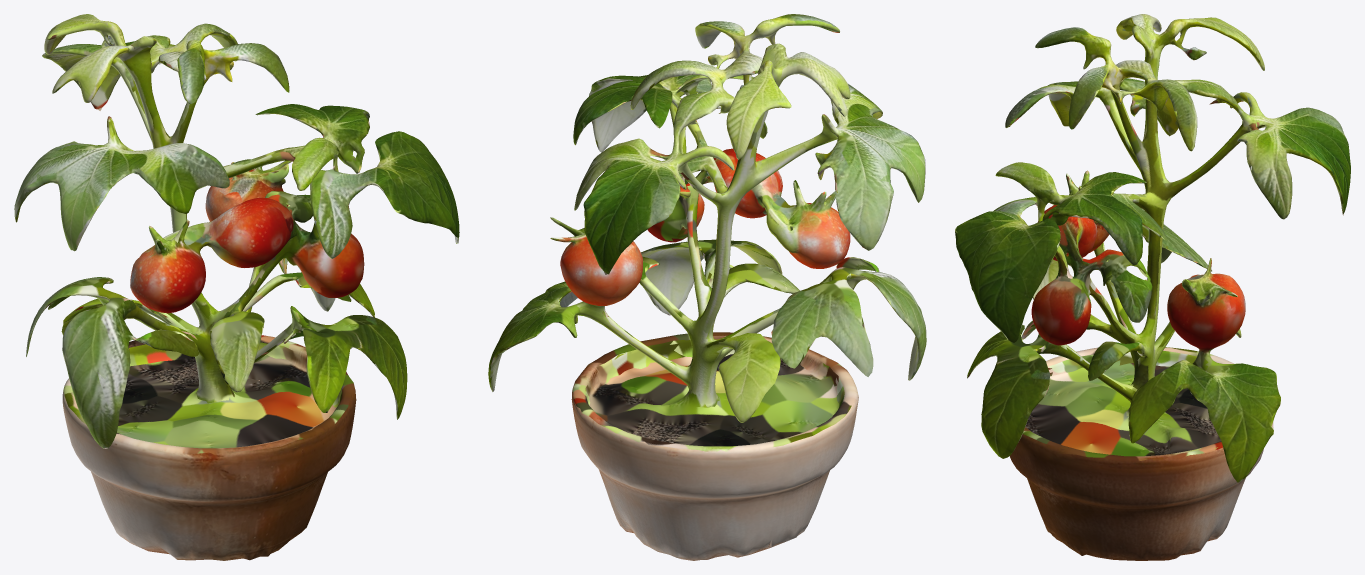
File: tomato_plant.glb
The picture shows the model from 3 angles, left to right: view 1: azimuth 30°, elevation 25°; view 2: azimuth 150°, elevation 25°; view 3: azimuth 270°, elevation 25°; orthographic projection. The views are drawn at different scales.
Visible parts, largest first — view 1: Tomato Plant_0; view 2: Tomato Plant_0; view 3: Tomato Plant_0.
Part boxes in pixels (<box>): Tomato Plant_0: <box>14,14,459,560</box>; Tomato Plant_0: <box>488,14,926,560</box>; Tomato Plant_0: <box>955,14,1350,560</box>.
Bounding box in the file's own units: 0.3018 × 0.4 × 0.3.
Materials: 1 (1 with a texture image).
